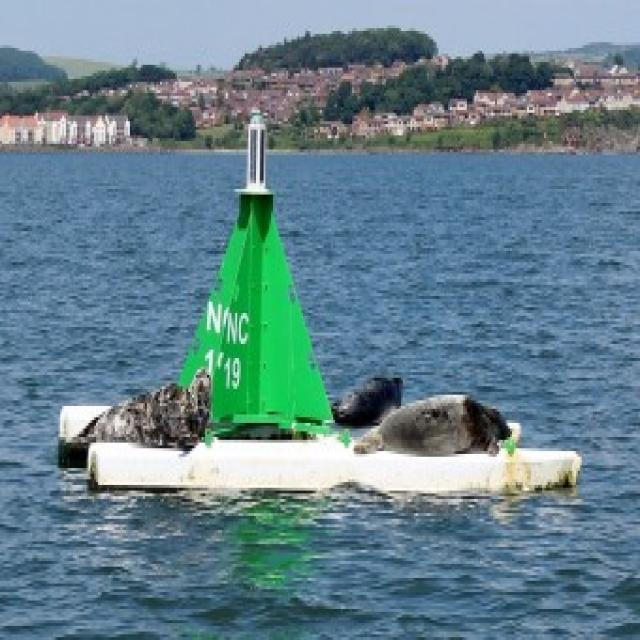2.1 lateral mark -S-: (160, 92, 356, 462)
